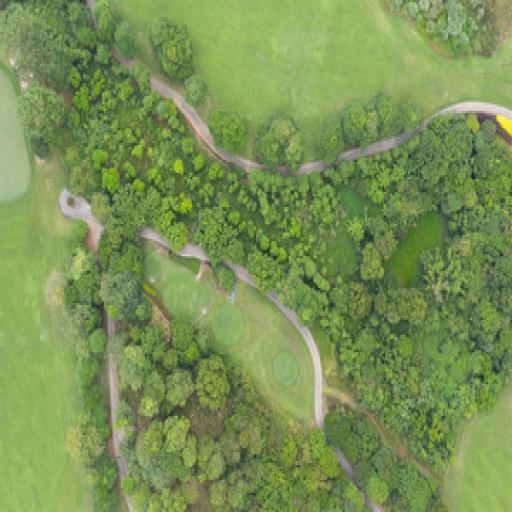tree-top: (420, 122, 470, 214), (0, 13, 55, 78), (19, 85, 68, 156), (89, 184, 138, 248), (281, 253, 324, 323), (324, 400, 372, 462), (415, 405, 461, 469), (69, 394, 108, 466), (142, 412, 197, 463), (149, 16, 194, 78), (194, 208, 242, 266), (423, 242, 467, 304), (196, 353, 244, 406), (258, 114, 302, 170), (57, 6, 98, 66), (252, 463, 297, 512), (100, 269, 139, 325), (470, 293, 508, 343), (234, 409, 269, 463), (330, 277, 370, 323), (213, 104, 249, 154), (486, 223, 512, 291), (84, 457, 122, 503), (386, 178, 417, 234), (247, 245, 281, 295), (470, 360, 504, 408), (394, 282, 429, 327), (306, 431, 339, 478), (398, 465, 430, 512), (116, 345, 147, 393), (315, 113, 346, 160), (342, 101, 373, 147), (353, 243, 388, 283), (371, 88, 401, 134), (167, 360, 196, 406), (246, 162, 278, 200), (140, 370, 164, 420), (362, 470, 396, 505), (171, 321, 197, 366), (254, 189, 282, 230), (201, 431, 222, 485), (324, 157, 355, 191), (312, 188, 341, 224), (114, 402, 136, 447), (112, 18, 135, 60), (148, 184, 171, 226), (169, 213, 192, 253), (213, 261, 239, 295), (278, 430, 300, 470), (184, 73, 209, 107), (133, 296, 158, 330), (158, 482, 186, 512), (77, 269, 100, 304), (88, 326, 109, 362), (399, 96, 422, 128), (96, 164, 123, 191), (94, 4, 114, 40), (77, 358, 97, 392), (340, 478, 360, 512), (70, 82, 91, 114), (348, 212, 366, 246), (481, 114, 498, 146), (173, 193, 196, 216), (90, 148, 108, 174), (207, 161, 226, 185), (117, 77, 136, 100), (130, 136, 146, 160), (223, 170, 239, 192), (193, 150, 208, 173), (172, 157, 186, 177), (182, 136, 196, 154)
